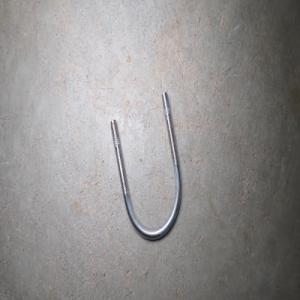ClampPart: (109, 91, 182, 241)
